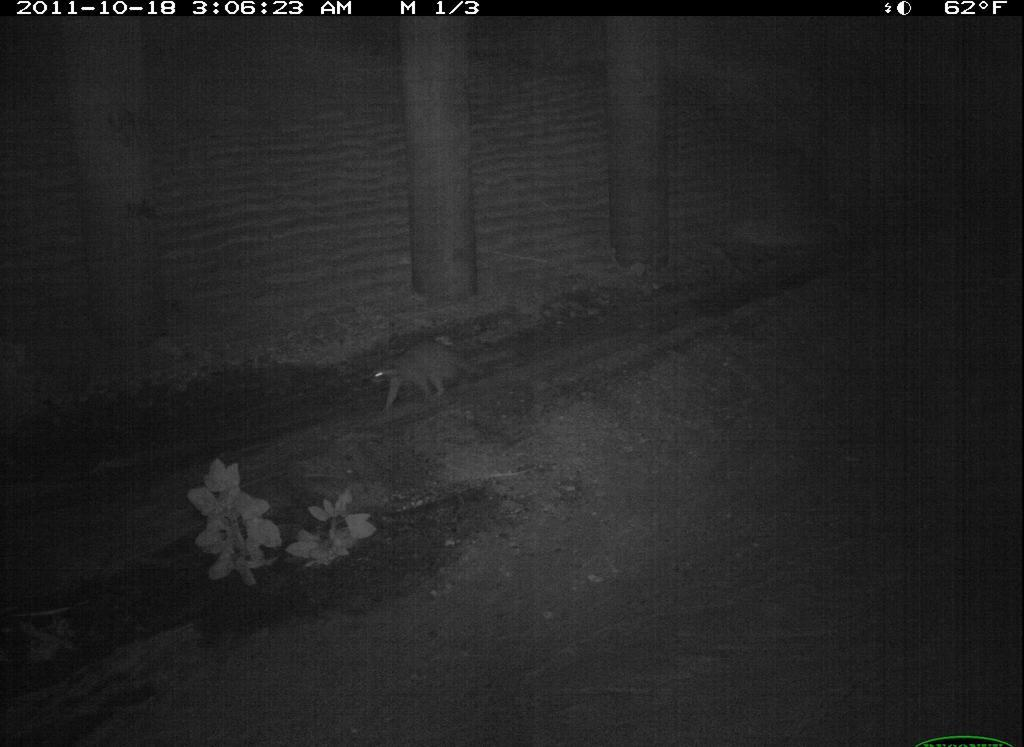raccoon: (729, 665, 980, 747)
